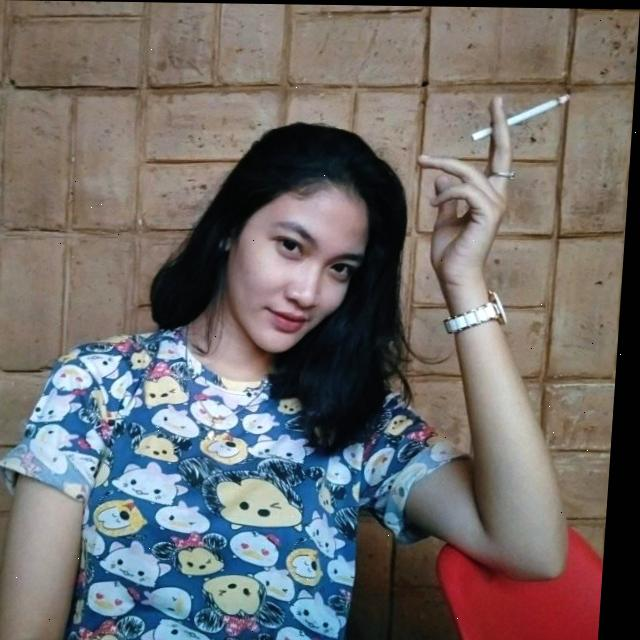cigarette: (472, 91, 573, 142)
